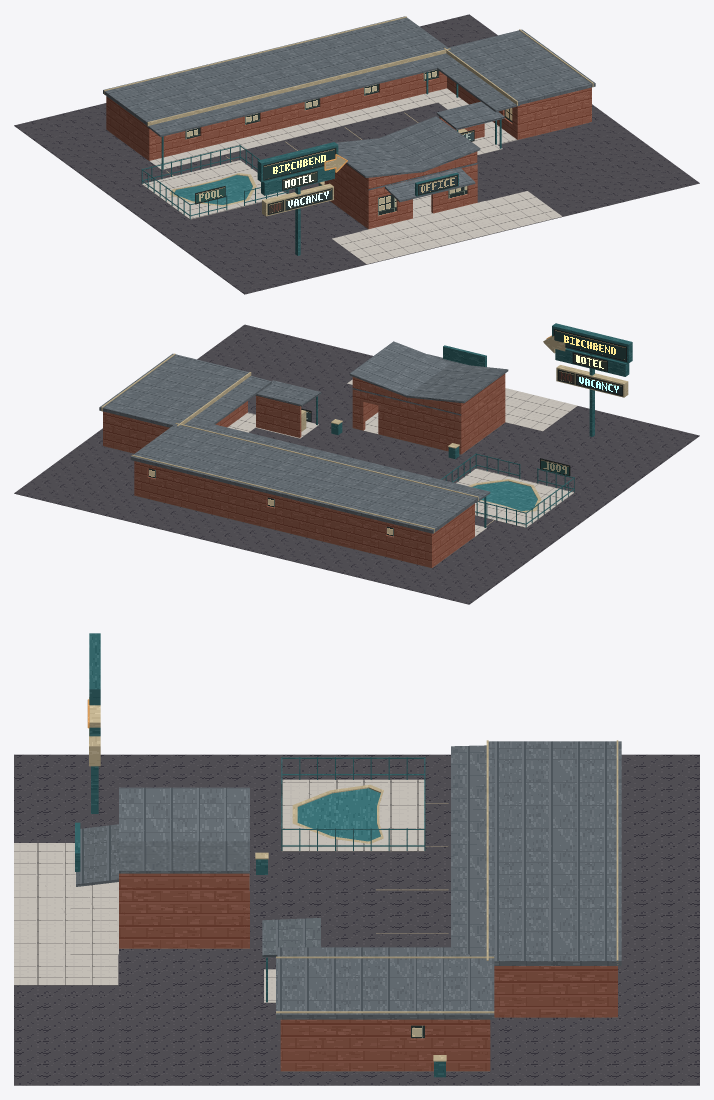
File: birchbend-1955-far.glb
The picture shows the model from 3 angles, top to bottom: view 1: azimuth 30°, elevation 25°; view 2: azimuth 150°, elevation 25°; view 3: azimuth 270°, elevation 25°; orthographic projection. The views are drawn at different scales.
Visible parts, largest first — view 1: shell, lot, pool, roadside_sign, sign_name_street, sign_vacancy_street; view 2: shell, lot, pool, roadside_sign, sign_name_exit, interior, sign_vacancy_exit; view 3: lot, shell, pool, roadside_sign.
Part boxes in pixels (<box>): shell: <box>103,16,595,229</box>; lot: <box>14,14,699,294</box>; pool: <box>141,145,288,219</box>; roadside_sign: <box>257,142,347,255</box>; sign_name_street: <box>263,147,336,180</box>; sign_vacancy_street: <box>285,188,332,210</box>; shell: <box>99,341,508,567</box>; lot: <box>14,324,699,604</box>; pool: <box>441,453,574,527</box>; roadside_sign: <box>543,323,632,436</box>; sign_name_exit: <box>553,329,626,361</box>; interior: <box>103,412,504,568</box>; sign_vacancy_exit: <box>575,374,622,396</box>; lot: <box>14,754,699,1085</box>; shell: <box>75,740,621,1071</box>; pool: <box>281,757,425,851</box>; roadside_sign: <box>87,633,100,813</box>.
Bounding box in the file's own units: 35.8 × 7.69 × 31.4.
12 materials, 12 textured.
